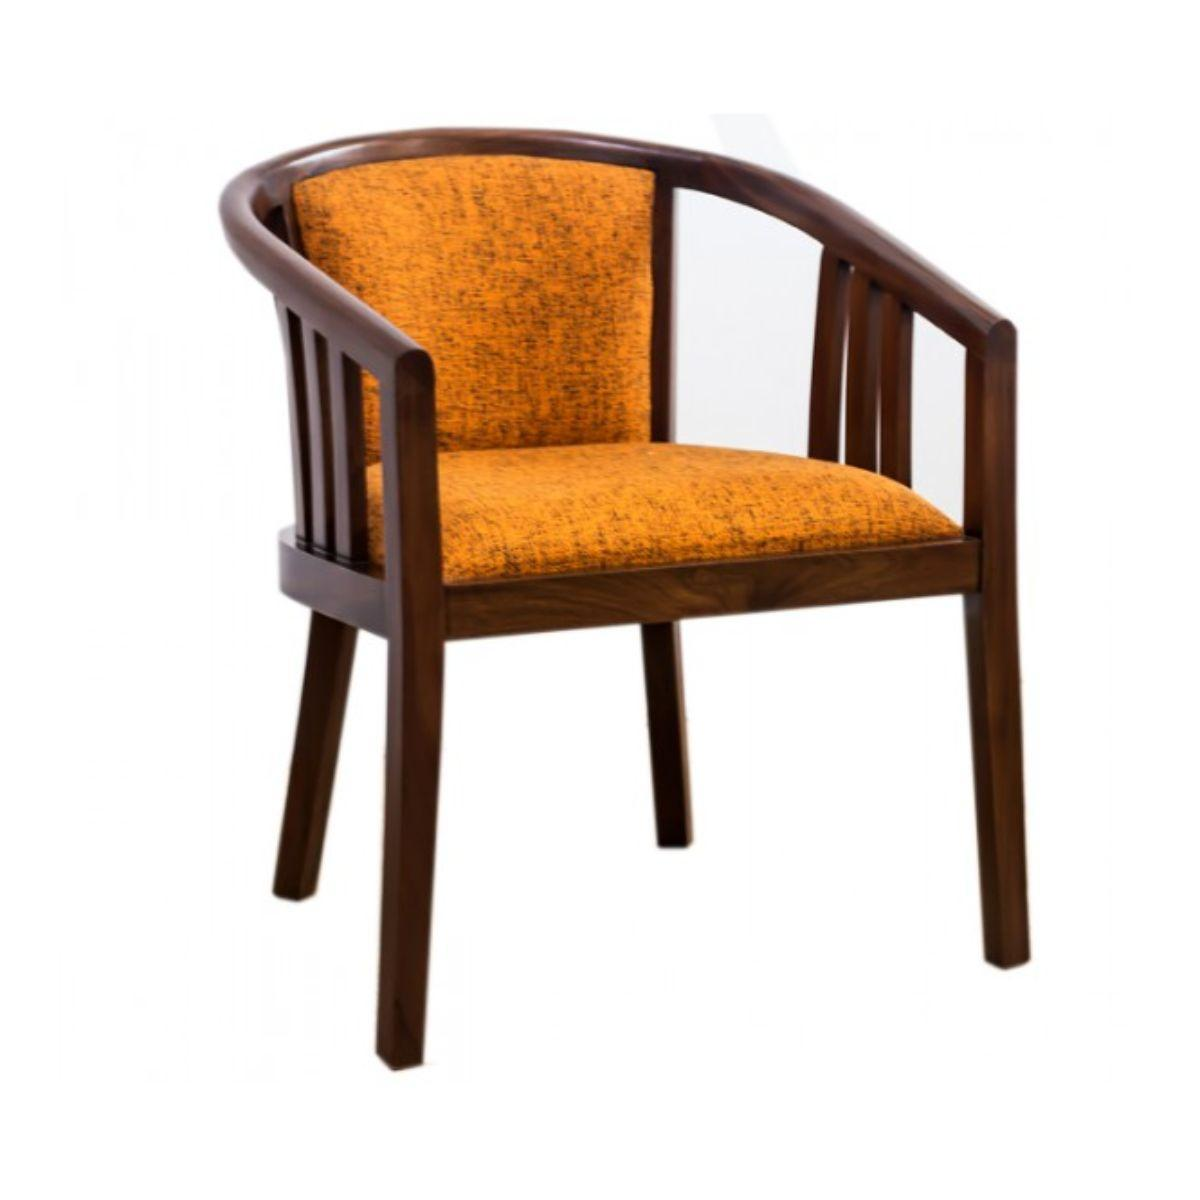Chair: (204, 122, 1053, 1074)
